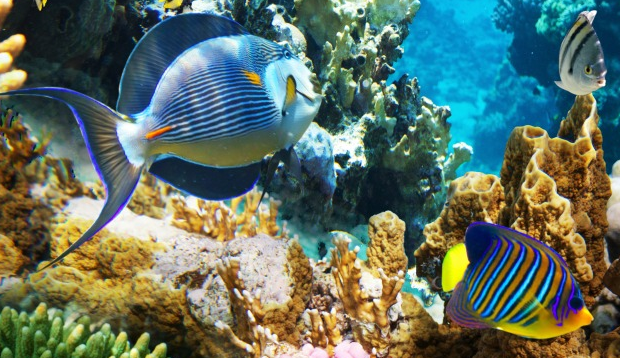fishRound: (14, 12, 325, 273), (438, 221, 594, 337), (553, 9, 607, 96)
